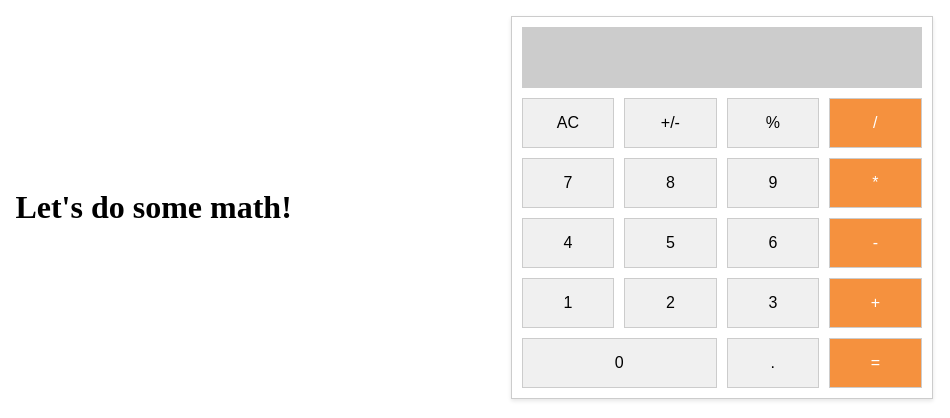
Test: Calculator component › should clear the screen after AC button is clicked
The width and height of the screenshot is (950, 418).
Note: Simulate button clicks to enter a number and then clear
What coordinates should you click on to do the following:
click the button "1"
I would click on:
 (568, 302)
Its box is [522,278,614,328].
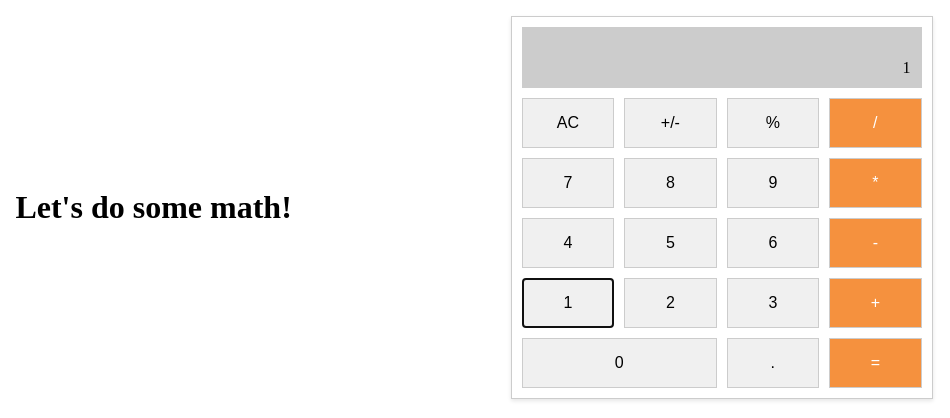
What coordinates should you click on to do the following:
click the button "AC"
I would click on:
 (568, 122)
Its box is [522,98,614,148].
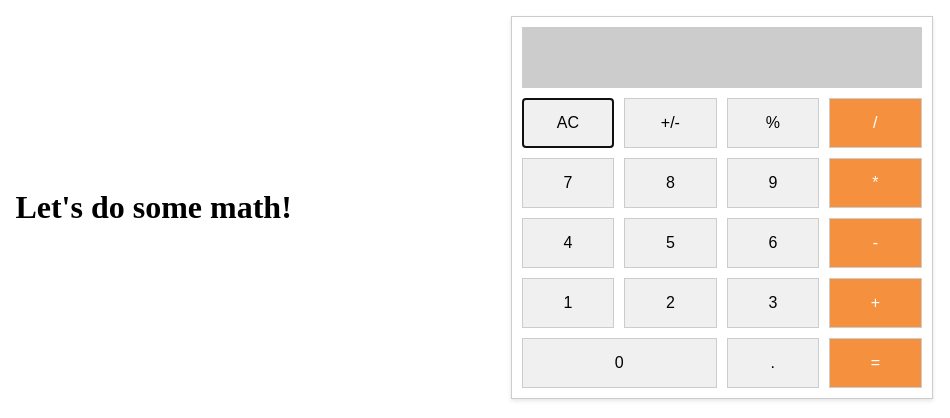
Now the text ".operation" is gone
